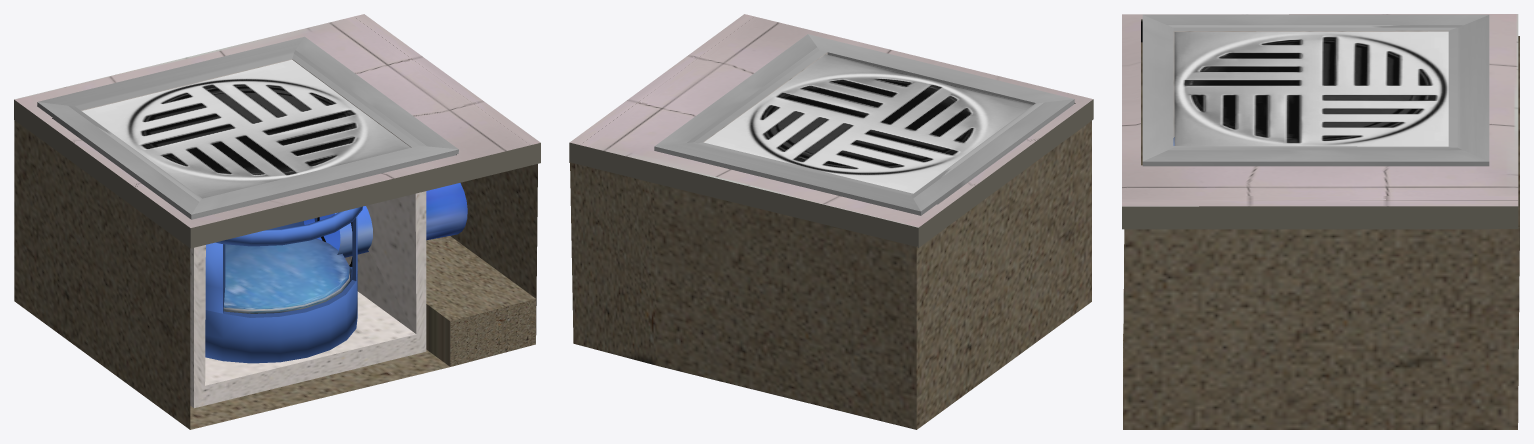
The model's file is ralo160.glb.
3 renders of one model, left to right at view 1: azimuth 30°, elevation 25°; view 2: azimuth 150°, elevation 25°; view 3: azimuth 270°, elevation 25°, orthographic. The views are drawn at different scales.
Visible parts, largest first — view 1: caixa; view 2: caixa; view 3: caixa.
Boxes of the visible parts, x1,y1,x2,y2 form: caixa: (14,14,540,429); caixa: (569,14,1093,429); caixa: (1122,14,1519,429).
Bounding box in the file's own units: 0.2102 × 0.1185 × 0.1835.
Materials: 1 (1 with a texture image).
